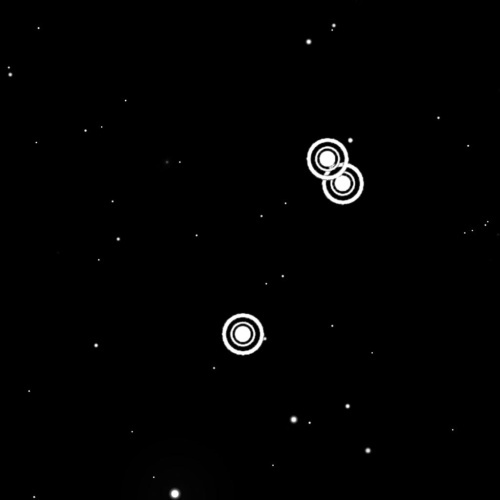canis_minor: (216, 131, 368, 367)
